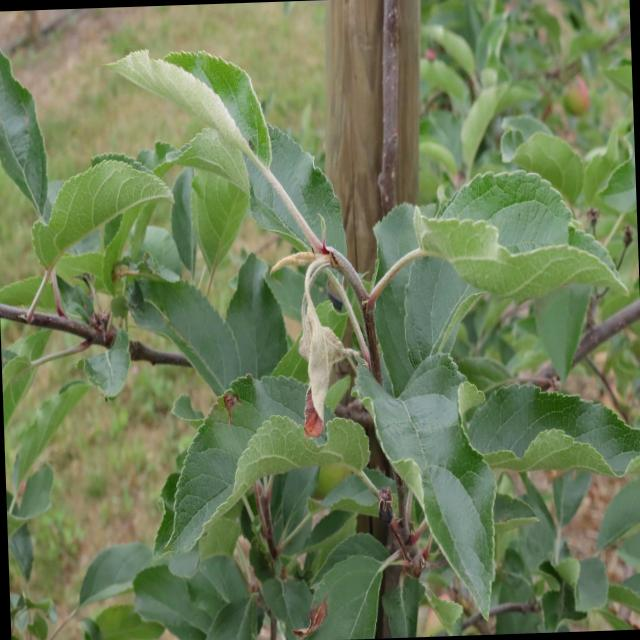-FireBlight-: (278, 234, 352, 400)
